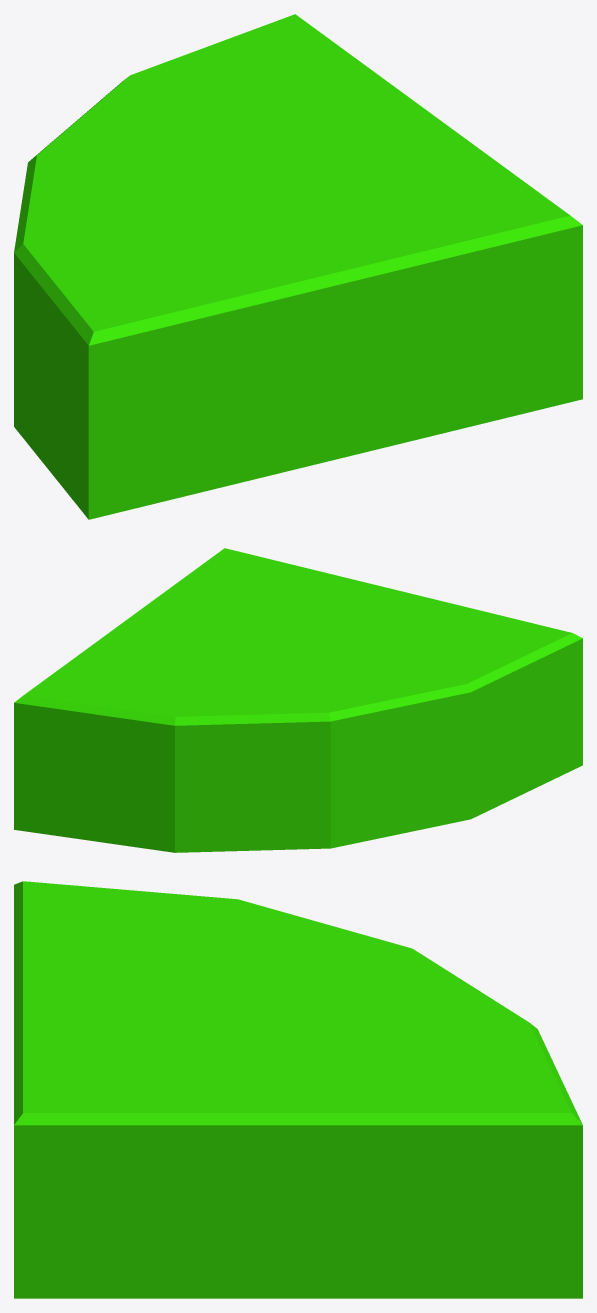
Rendered from round_3x1_02.fbx.
3 views of the same model, one above another, from view 1: azimuth 30°, elevation 25°; view 2: azimuth 150°, elevation 25°; view 3: azimuth 270°, elevation 25° (orthographic). The views are drawn at different scales.
Visible parts, largest first — view 1: round_3x1_02; view 2: round_3x1_02; view 3: round_3x1_02.
Boxes of the visible parts, <box> form: round_3x1_02: <box>14,14,582,519</box>; round_3x1_02: <box>14,548,582,852</box>; round_3x1_02: <box>14,881,582,1298</box>.
Bounding box in the file's own units: 312 × 110 × 312.
